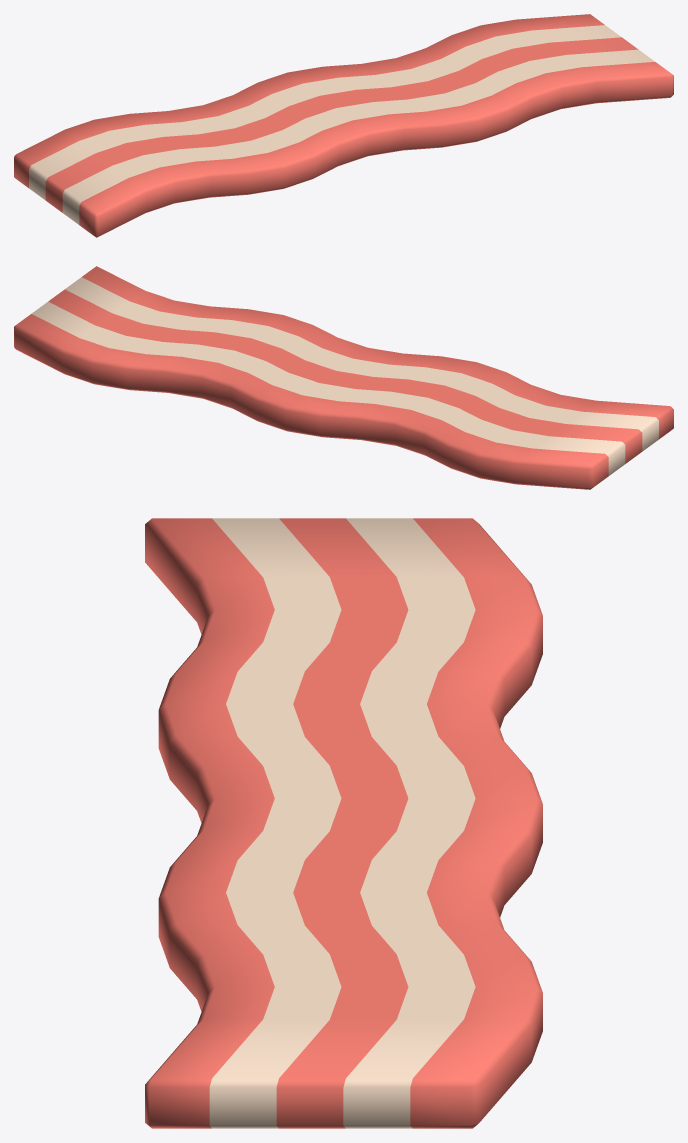
Rendered from Bacon_Hotdog.003.fbx.
3 renders of one model, top to bottom at view 1: azimuth 30°, elevation 25°; view 2: azimuth 150°, elevation 25°; view 3: azimuth 270°, elevation 25°, orthographic. The views are drawn at different scales.
Visible parts, largest first — view 1: Bacon_Hotdog.003; view 2: Bacon_Hotdog.003; view 3: Bacon_Hotdog.003.
Part boxes in pixels (left/top/right/bottom): Bacon_Hotdog.003: left=14, top=14, right=673, bottom=237; Bacon_Hotdog.003: left=14, top=266, right=673, bottom=489; Bacon_Hotdog.003: left=145, top=518, right=542, bottom=1128.
Size of the model in its own units: 129 by 38.27 by 5.32.
